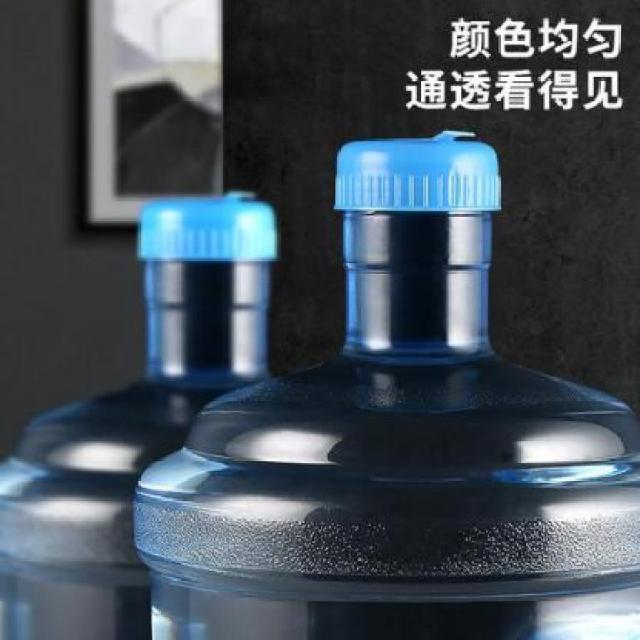coolerbottle: (126, 124, 640, 640)
